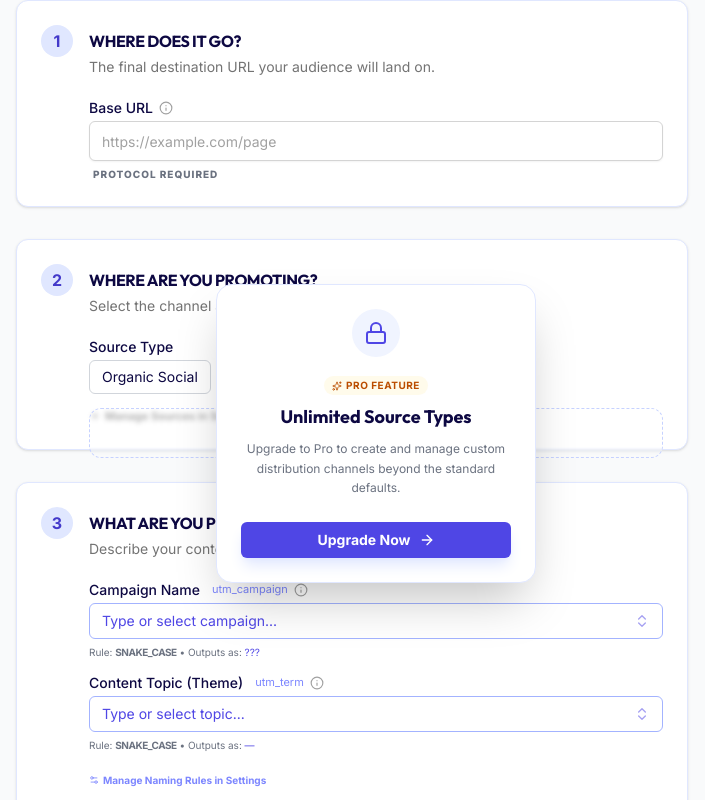
Test: UtmGeneratorForm › shows URL validation error for invalid URL
Type "not-a-url" into the field labelled "Base URL" at [376, 141], box [89,121,663,161]
(page scrolled)
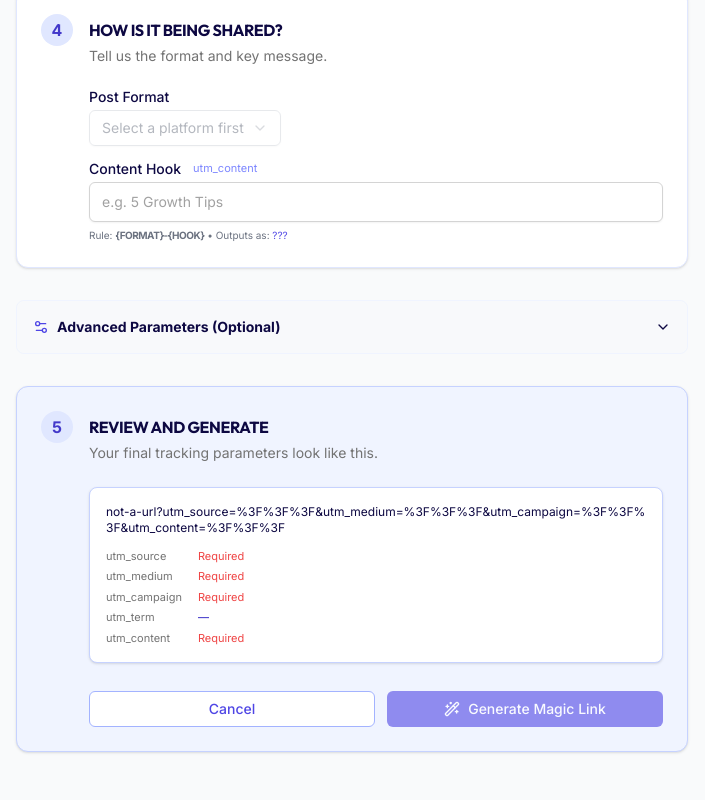
Click the button "Generate Magic Link" at [525, 709], box [387,691,663,727]
(page scrolled)
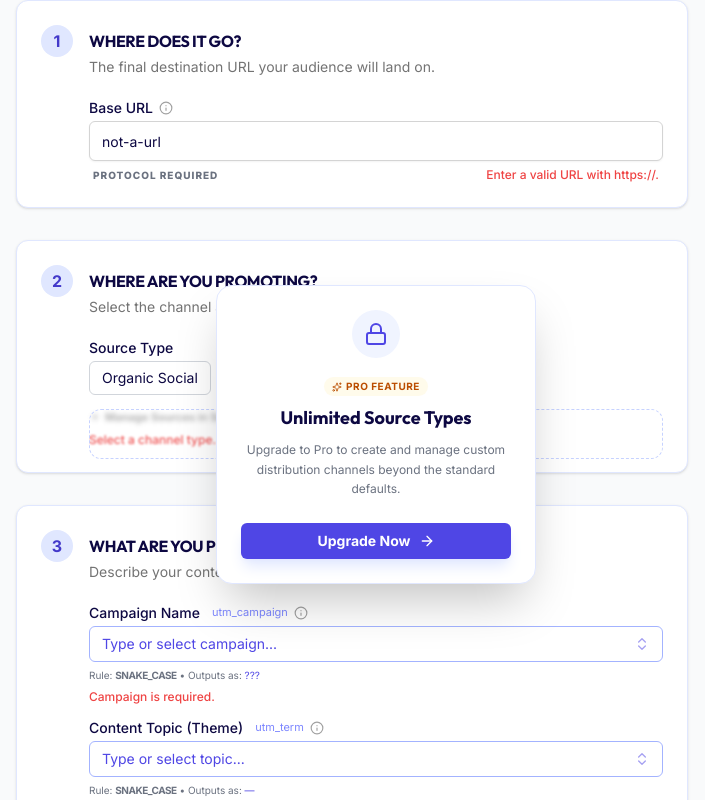
Result: the text "Enter a valid URL with https://." is shown at [486,167,659,183]
